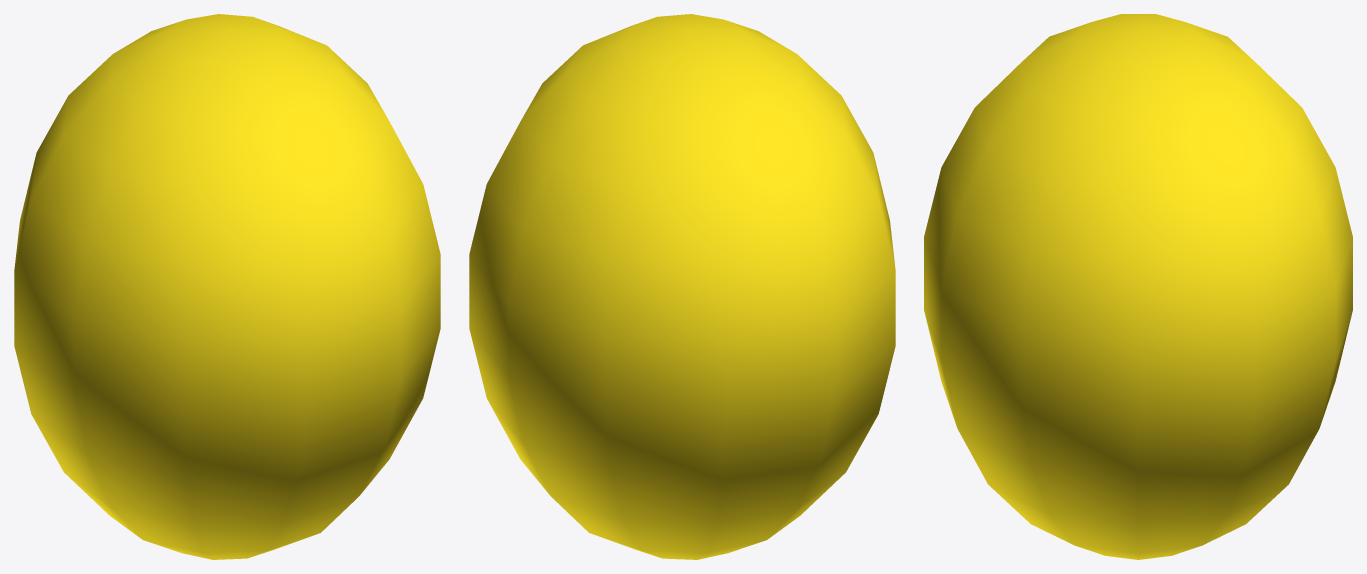
Rendered from fulgarru_stage3.obj.
3 views of the same model, side by side, from view 1: azimuth 30°, elevation 25°; view 2: azimuth 150°, elevation 25°; view 3: azimuth 270°, elevation 25° (orthographic).
Size of the model in its own units: 2.72 by 3.64 by 2.74.
